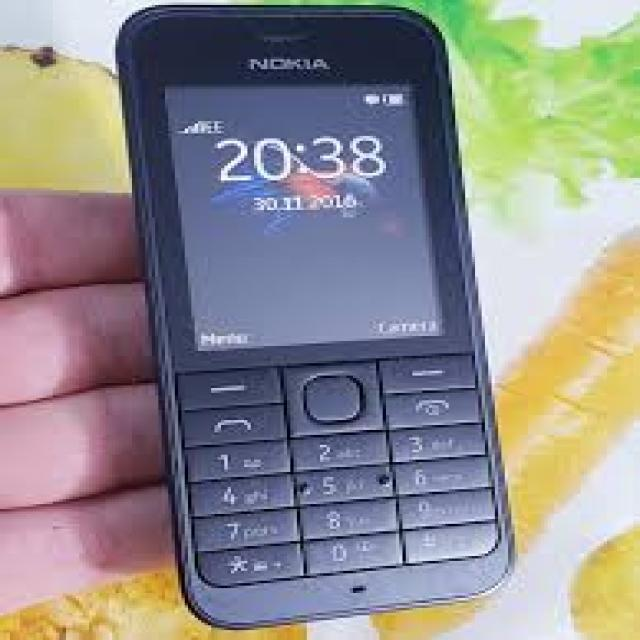mobile phone: (112, 3, 518, 630)
